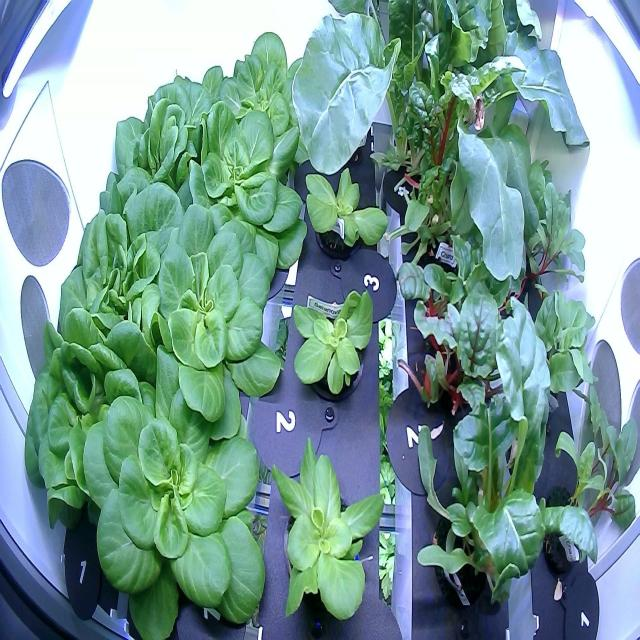Ready: (14, 296, 172, 544), (44, 175, 198, 395), (93, 47, 225, 207)
young: (74, 333, 274, 640), (120, 193, 288, 432), (264, 425, 396, 630), (170, 97, 310, 278), (196, 23, 319, 185), (283, 272, 385, 416), (299, 157, 392, 269)
